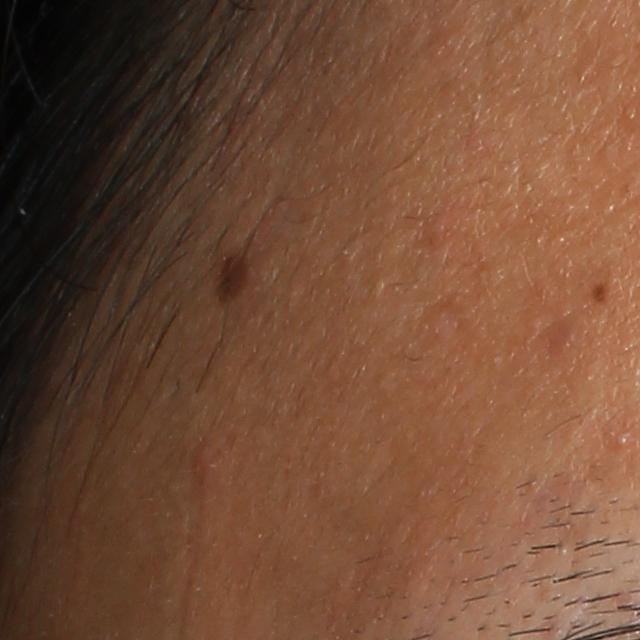nevus: (213, 237, 255, 309)
papule: (186, 416, 253, 510)
